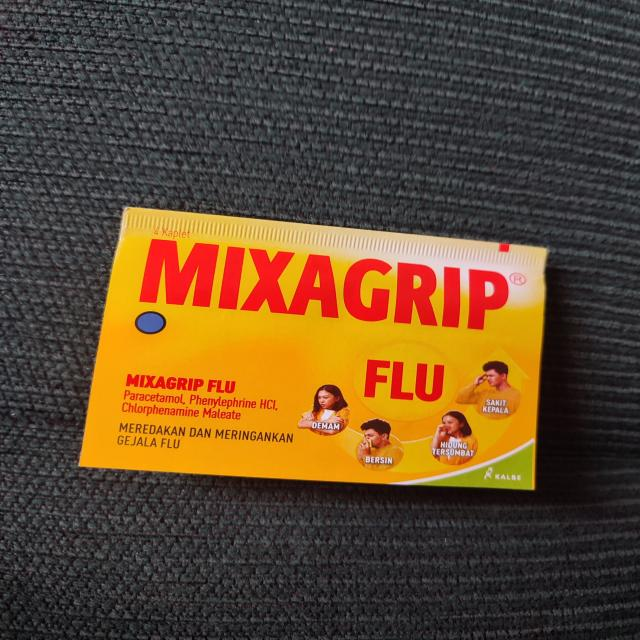B3: (79, 210, 548, 490)
